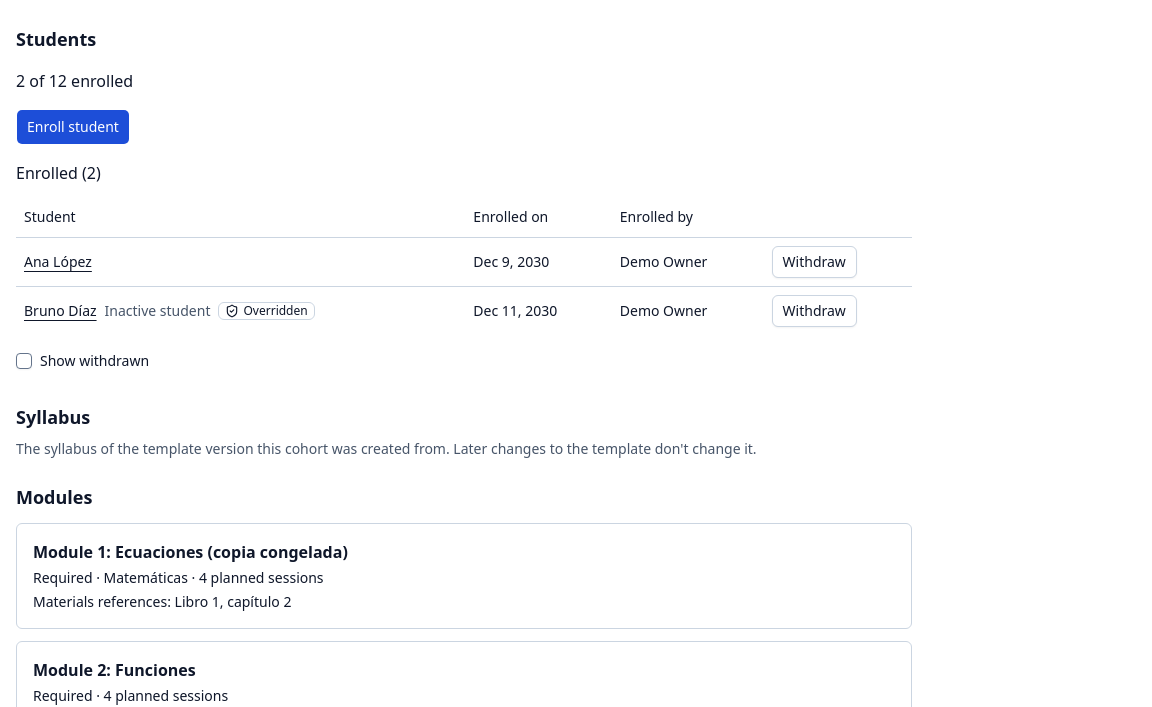
Test: the Students panel (A) › shows the capacity, the active rows by name and the withdrawn ones on demand
(page scrolled)
Expected: the element that starts with "Students" shows "2 of 12 enrolled", x1=16 y1=70 x2=133 y2=92
Expected: the link "Ana López" is shown, x1=24 y1=252 x2=92 y2=272
Click the checkbox. click: (24, 360)
box: x1=16 y1=352 x2=32 y2=368
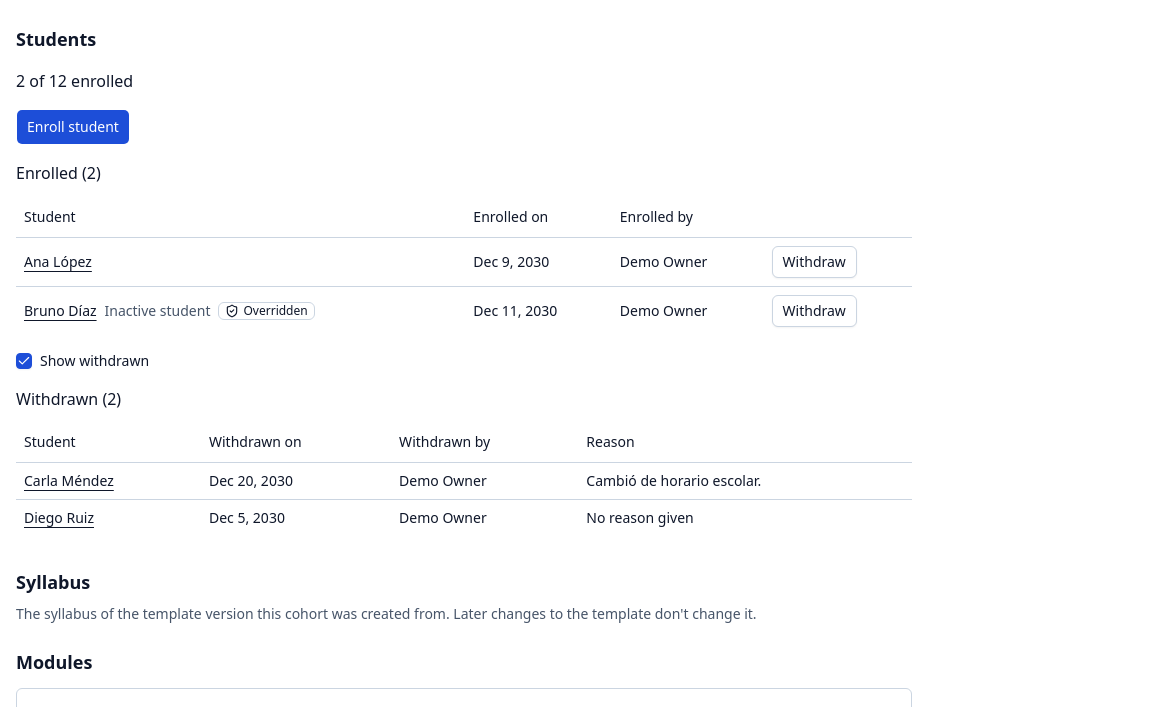
Expected: the element that starts with "Students" shows "Cambió de horario escolar.", x1=586 y1=471 x2=761 y2=490
Expected: the element that starts with "Students" shows "Withdrawn (2)", x1=16 y1=388 x2=121 y2=410
Expected: the element that starts with "Students" shows "No reason given", x1=586 y1=508 x2=694 y2=527
Click the checkbox. click: (24, 360)
box: x1=16 y1=352 x2=32 y2=368
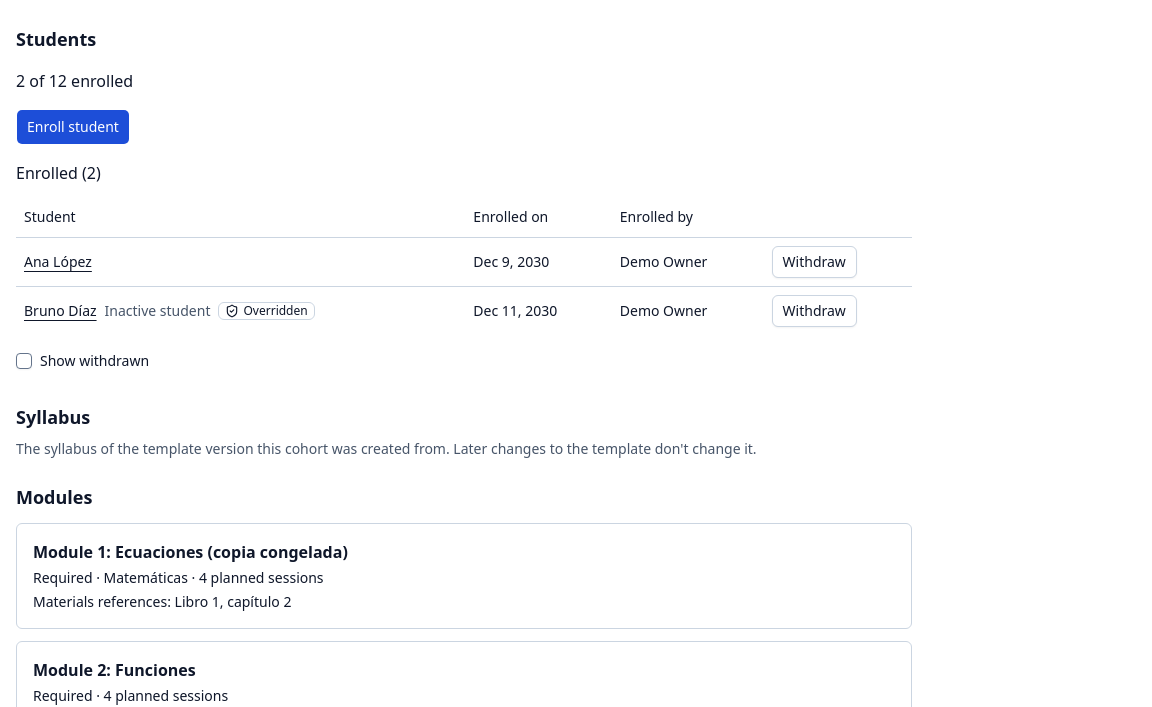
Expected: the heading "Withdrawn (2)" no longer shows "Withdrawn (2)"
